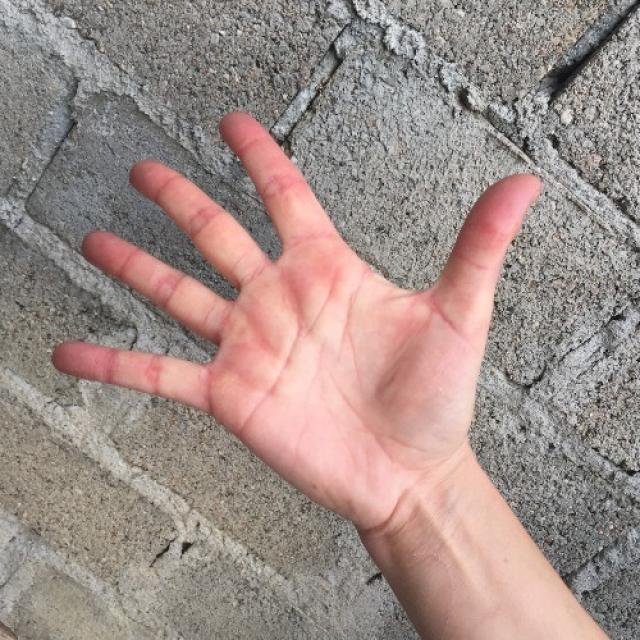paper: (53, 122, 537, 488)
